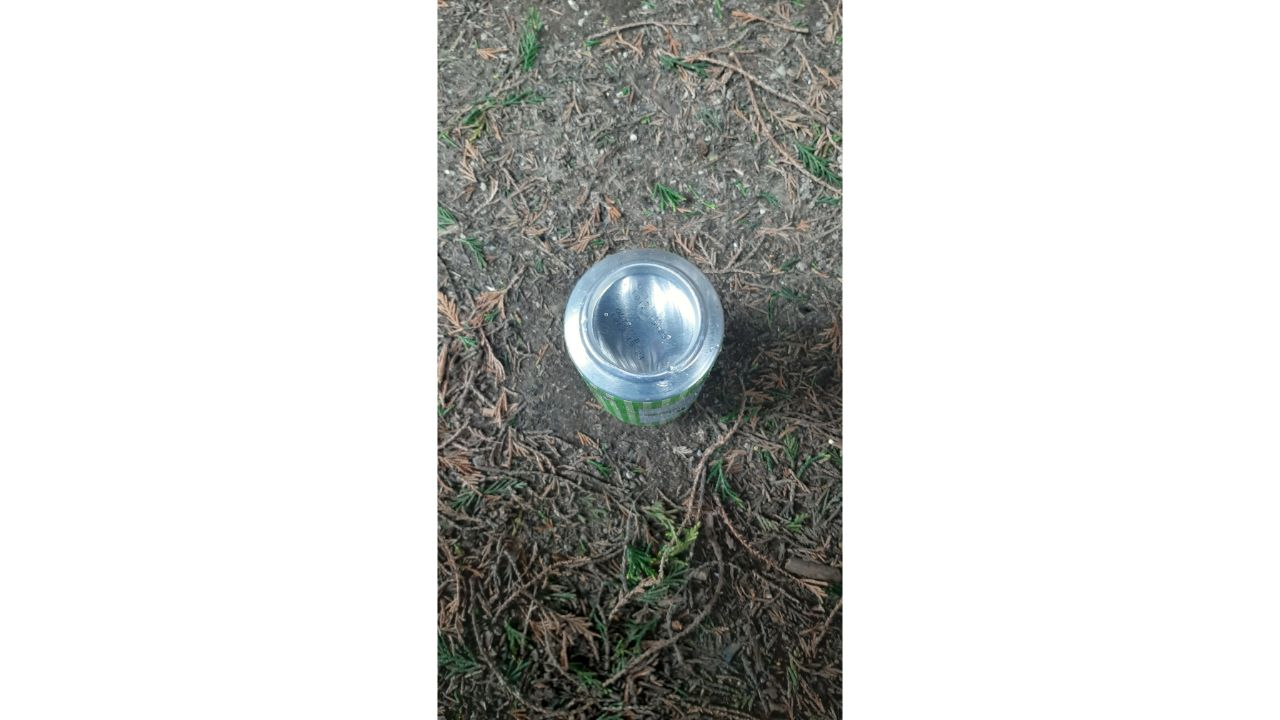Can: (551, 235, 737, 437)
